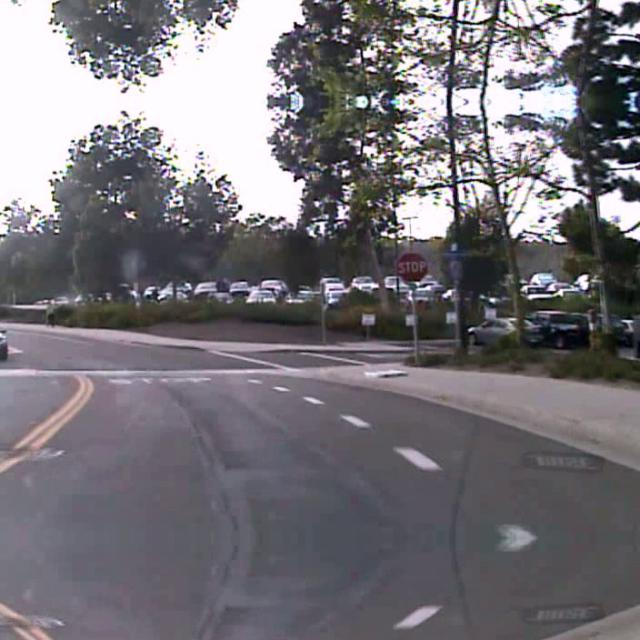stop: (394, 250, 428, 282)
